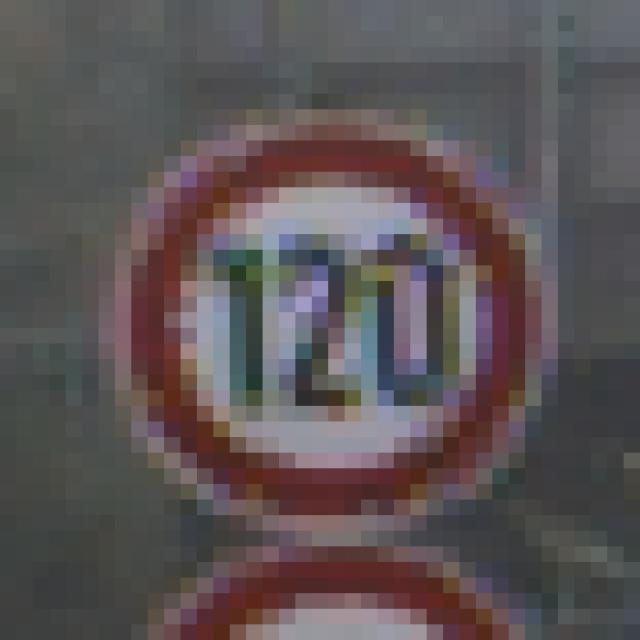Ograniczenie predkosci do 120: (132, 125, 538, 540)
